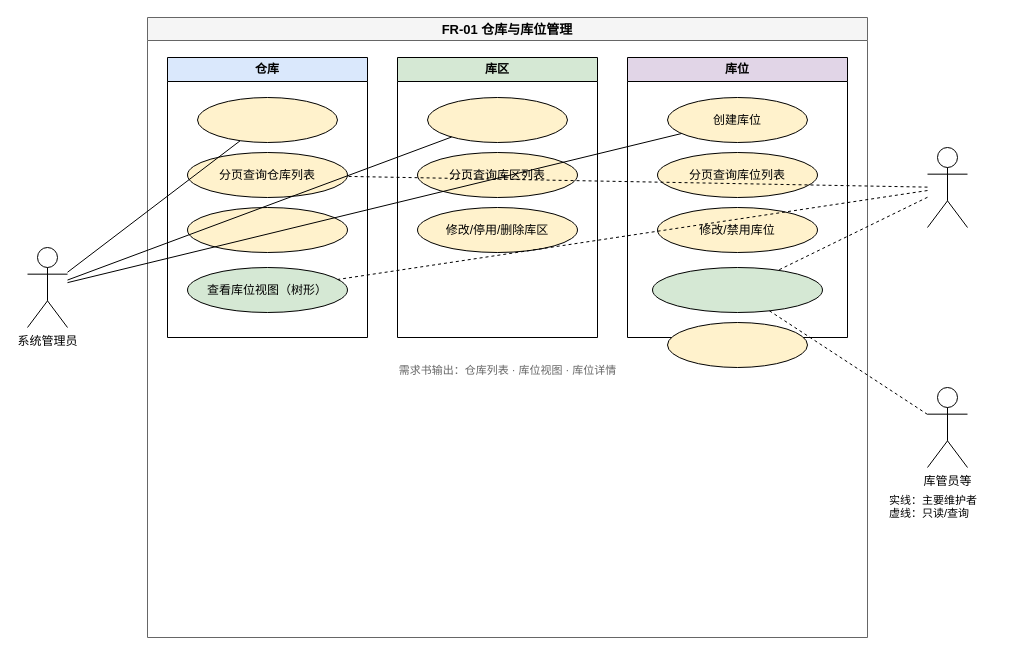
Some shapes in this 1024 by 655 pixel diagram are drawn without their labels. The centre of each missing label's shape, as x and y in pixels:
"仓库管理员" belongs at point 947,187.
"修改/停用/删除仓库" belongs at point 267,229.
"创建仓库" belongs at point 267,119.
"创建库区" belongs at point 497,119.
"删除库位" belongs at point 737,345.
"查看库位详情" belongs at point 737,289.
